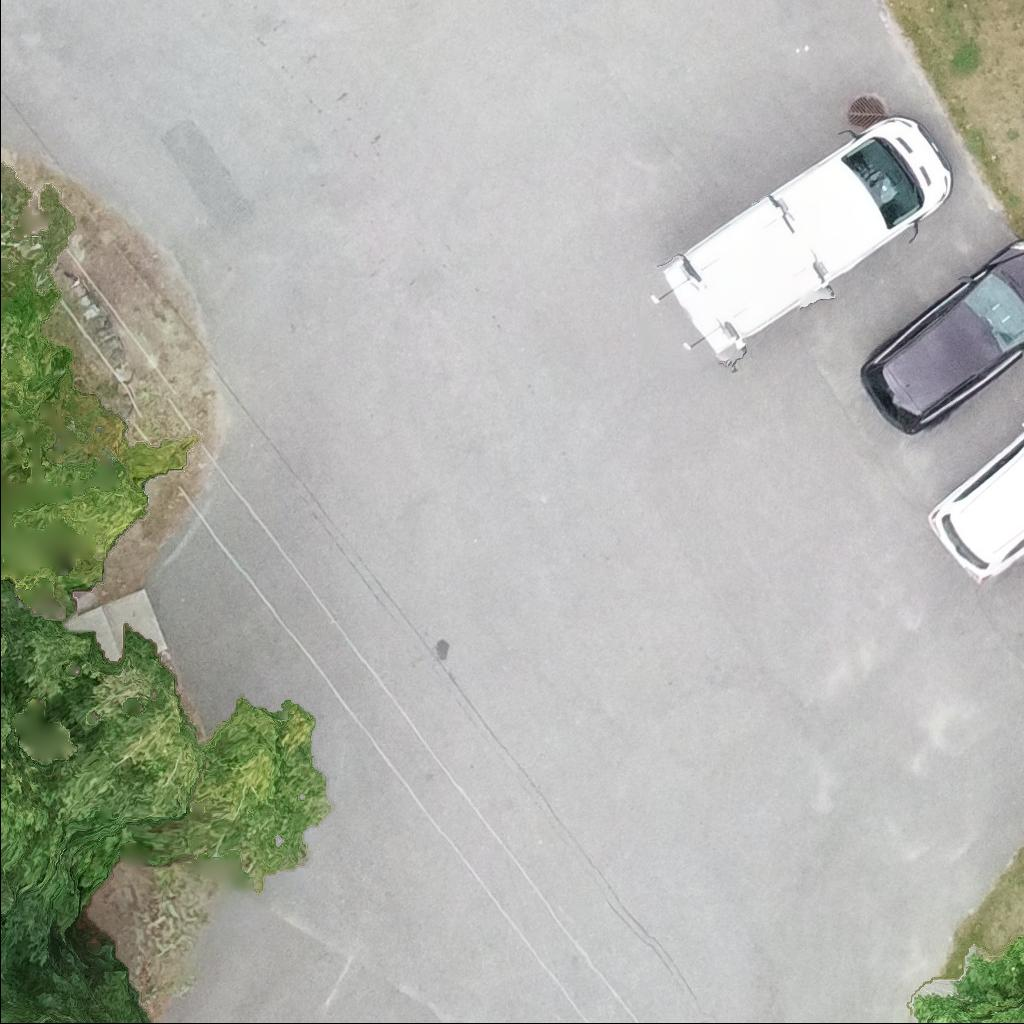crown: (913, 947, 1023, 1023)
